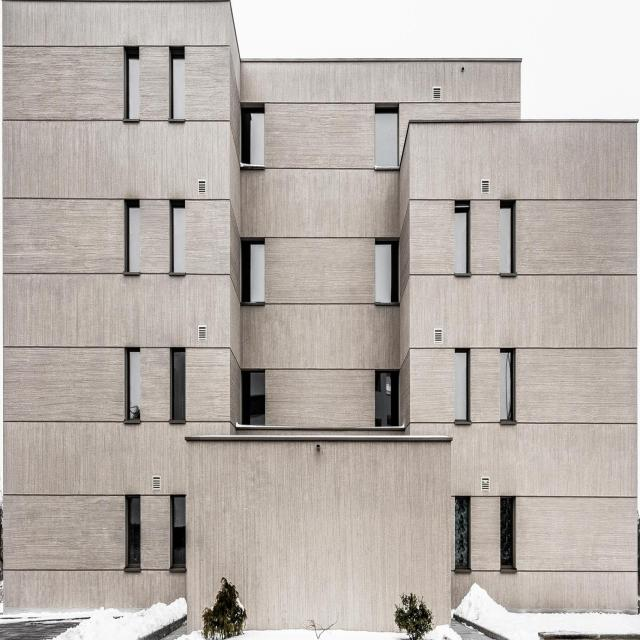wall: (0, 0, 638, 638)
windows: (375, 108, 399, 166), (242, 371, 266, 425), (377, 372, 399, 424), (376, 240, 393, 303), (250, 244, 266, 300), (249, 110, 264, 166), (500, 204, 512, 273), (502, 498, 514, 567), (457, 353, 470, 416), (501, 350, 513, 418), (456, 208, 469, 270), (458, 502, 471, 564), (128, 54, 140, 120), (172, 54, 184, 120), (128, 206, 140, 272), (172, 352, 184, 418), (173, 210, 184, 276), (129, 498, 140, 564), (130, 354, 141, 419), (172, 497, 183, 562)
